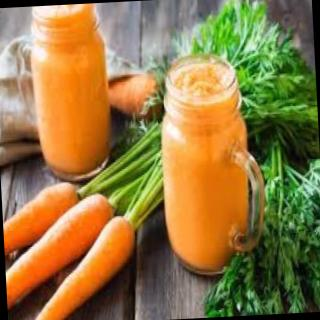Wortel: (18, 191, 159, 320), (2, 183, 136, 305)
